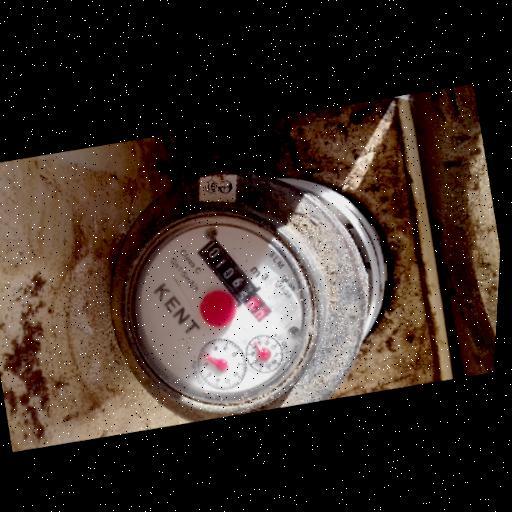0: (201, 241, 227, 266), (215, 258, 241, 283), (248, 299, 274, 323), (241, 290, 266, 314)
1: (209, 251, 232, 273)
5: (229, 278, 259, 307)
6: (223, 268, 250, 293)
border_water_meter_number: (187, 222, 284, 337)
